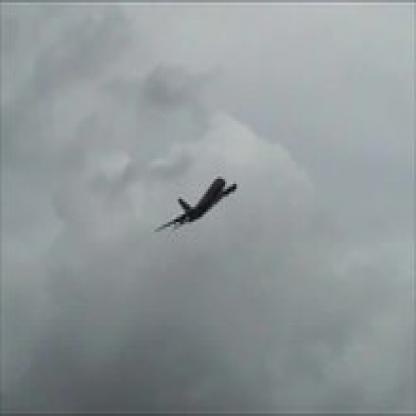CIV_Plane: (148, 172, 236, 235)
